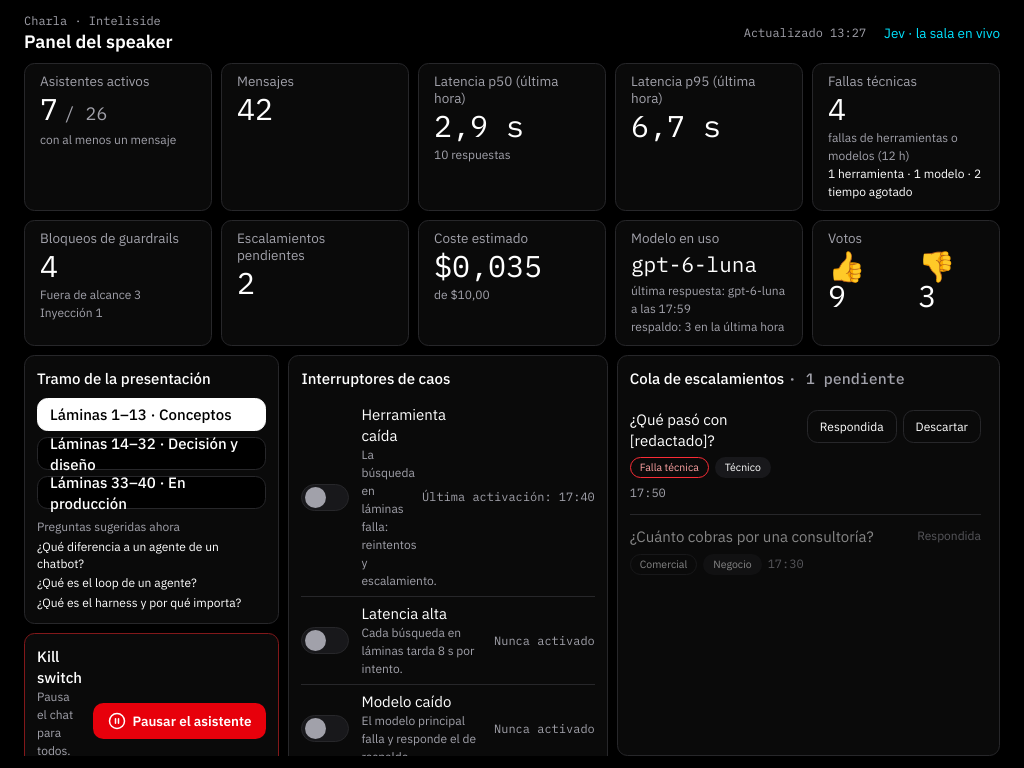
it: Panel del speaker › recarga tras un redespliegue › con el diálogo de confirmación abierto no recarga; al cerrarlo, sí
This screenshot has width=1024, height=768.
Expected: the text "42" is shown, [237,94,273,124]
Click the button "Pausar el asistente". click: (180, 721)
box: [93,703,266,739]
Wait 10000 ms
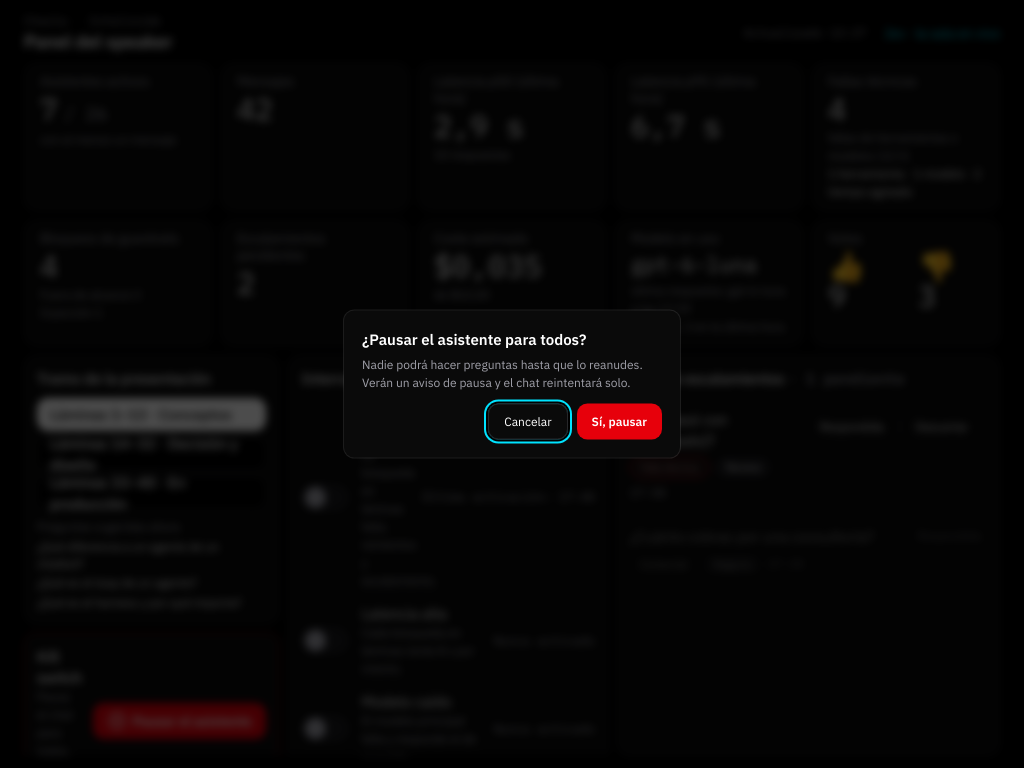
Click the button "Cancelar". click: (528, 422)
box: [488,404,568,440]
Wait 5000 ms
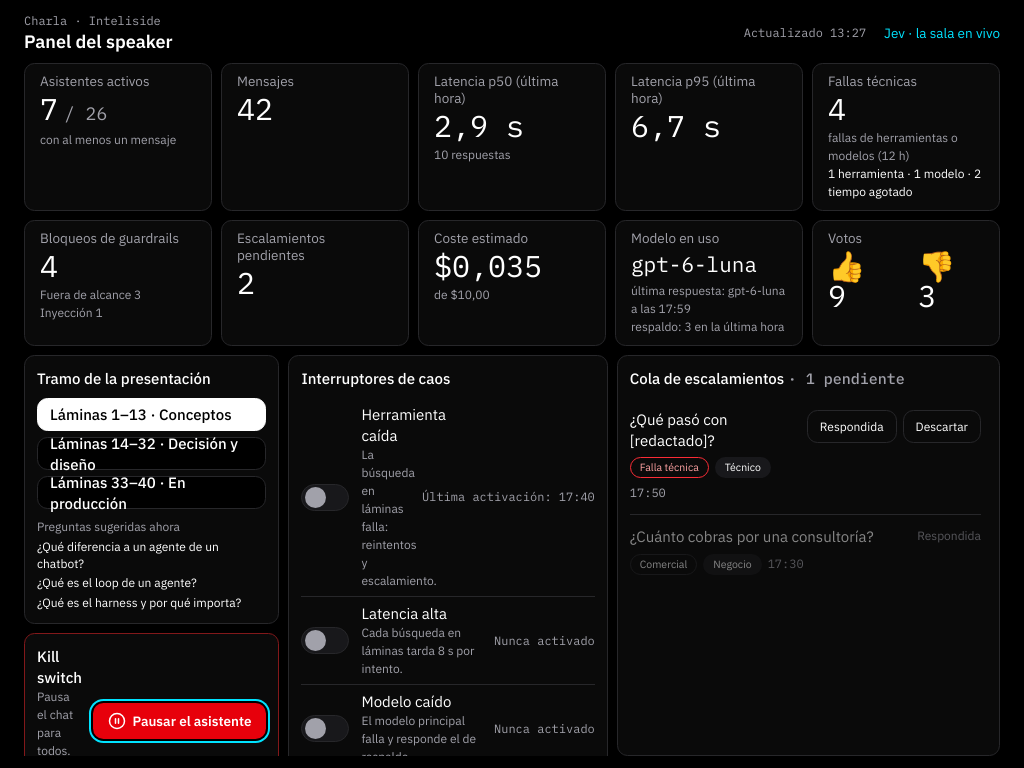
Expected: the dialog is gone
